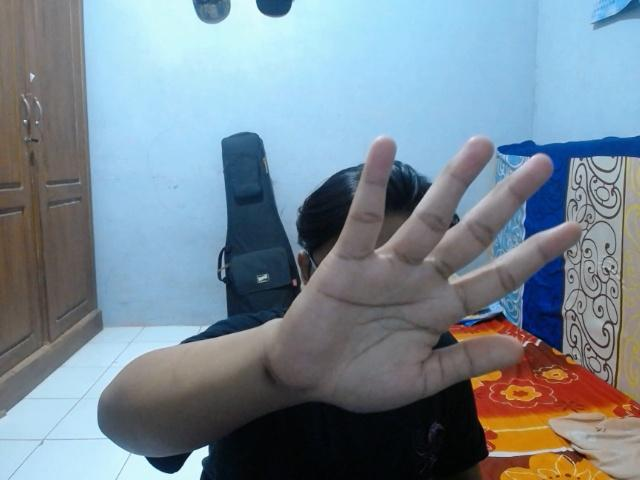Release: (275, 130, 590, 420)
